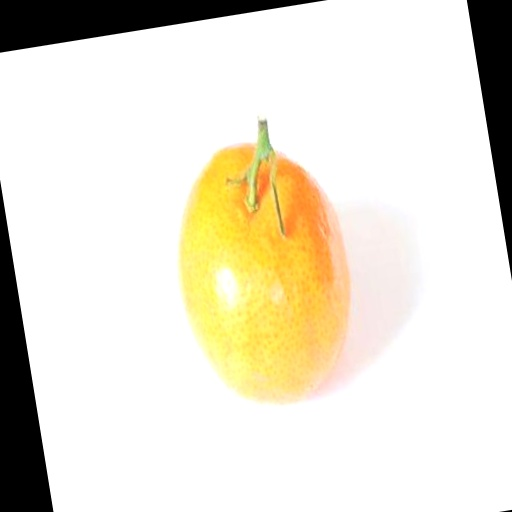fruit: (177, 116, 349, 404)
